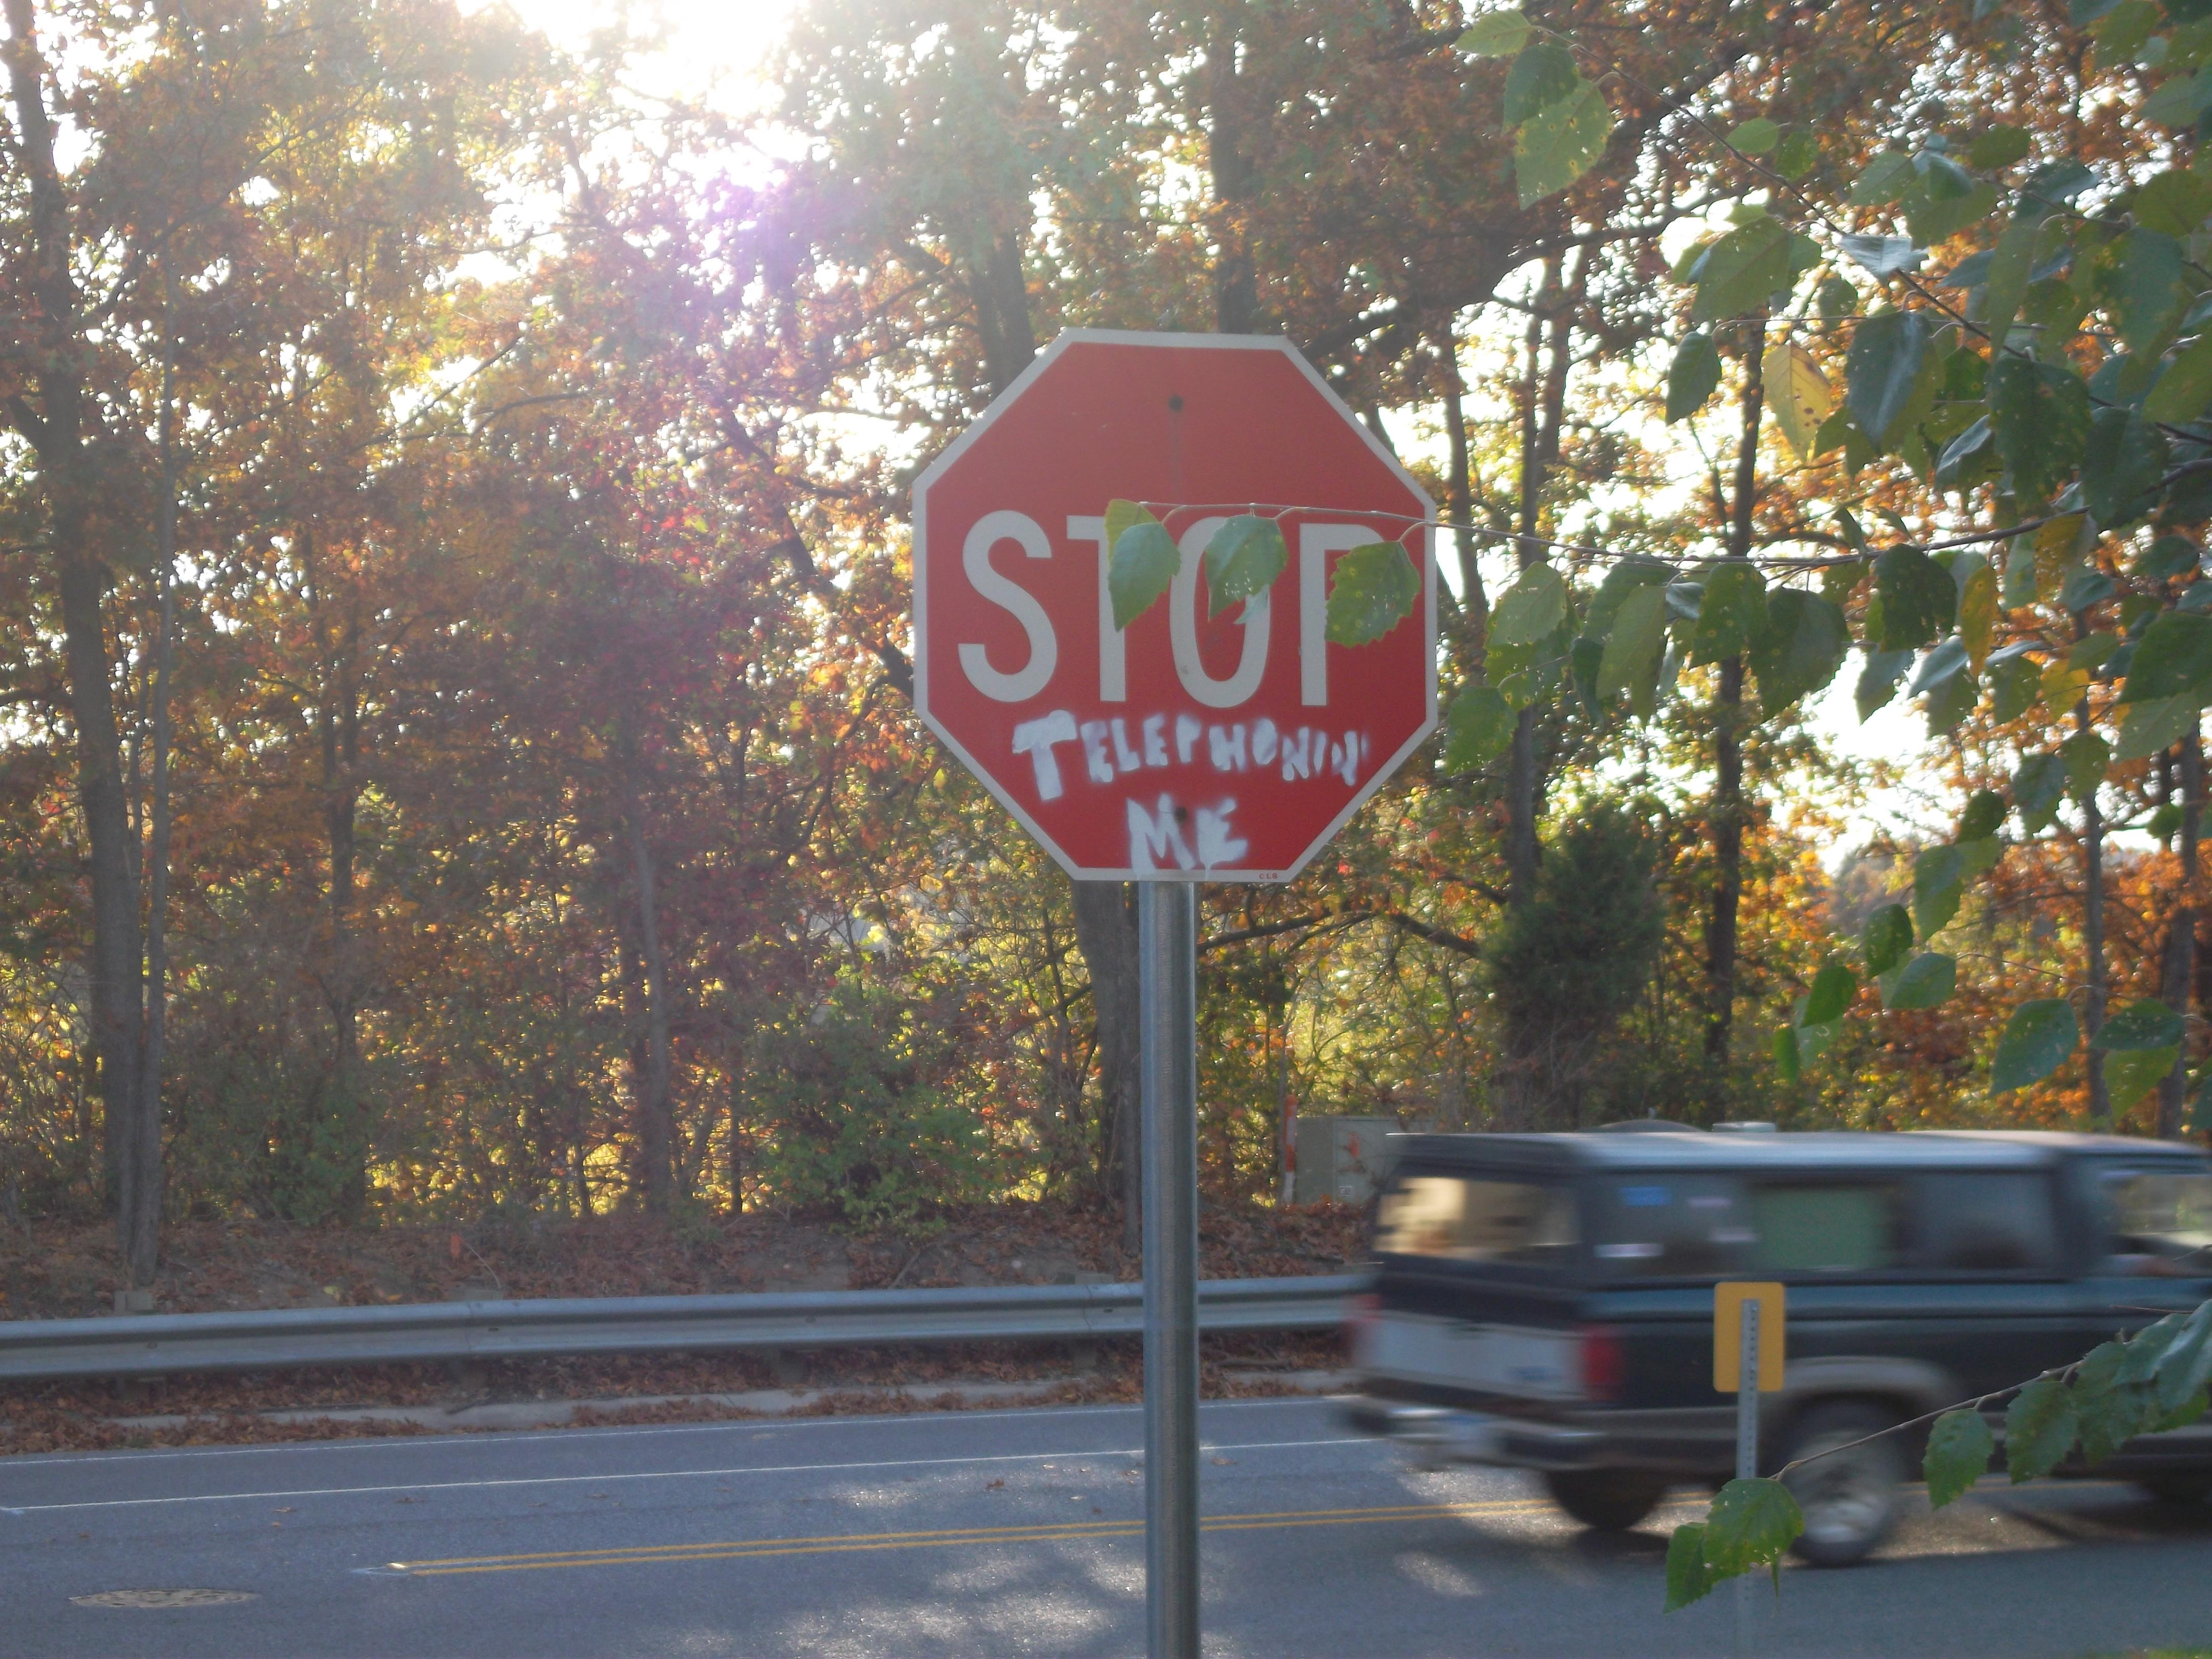stop: (876, 317, 1470, 901)
